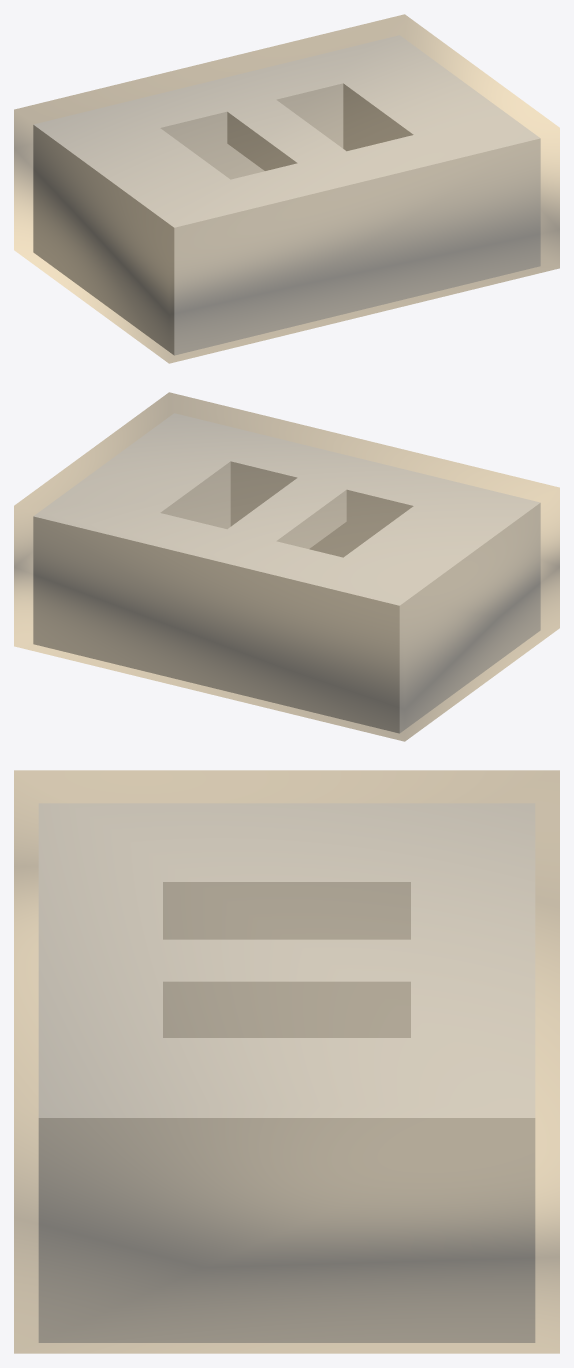
File: fix.cam.glb
3 renders of one model, top to bottom at view 1: azimuth 30°, elevation 25°; view 2: azimuth 150°, elevation 25°; view 3: azimuth 270°, elevation 25°, orthographic. The views are drawn at different scales.
Visible parts, largest first — view 1: stock, part; view 2: stock, part; view 3: stock, part.
Boxes of the visible parts, <box> form: stock: <box>14,14,559,363</box>; part: <box>33,35,540,355</box>; stock: <box>14,392,559,741</box>; part: <box>33,413,540,733</box>; stock: <box>14,770,559,1353</box>; part: <box>38,803,535,1342</box>.
Bounding box in the file's own units: 0.064 × 0.022 × 0.044.
